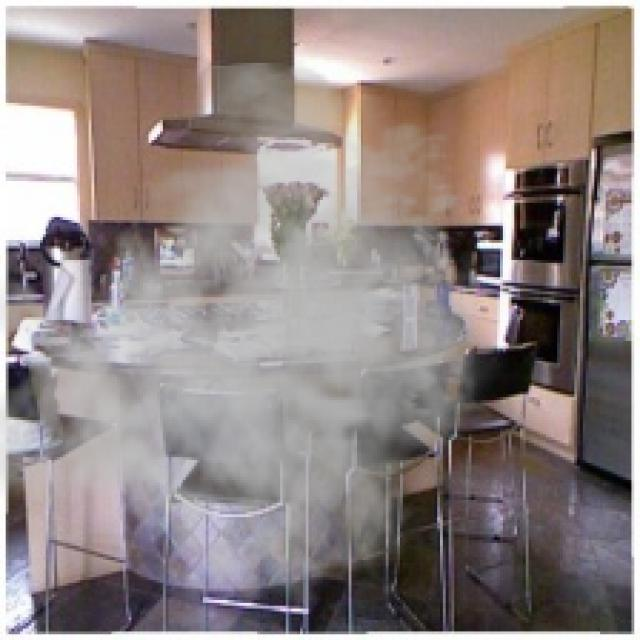Smoke: (0, 60, 529, 614)
